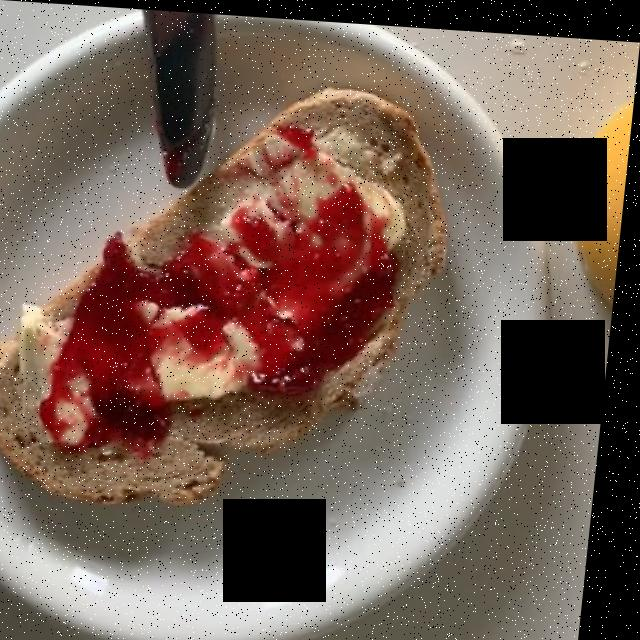bread-wholemeal: (0, 92, 464, 507)
butter: (38, 137, 394, 428)
jam: (47, 195, 394, 446)
